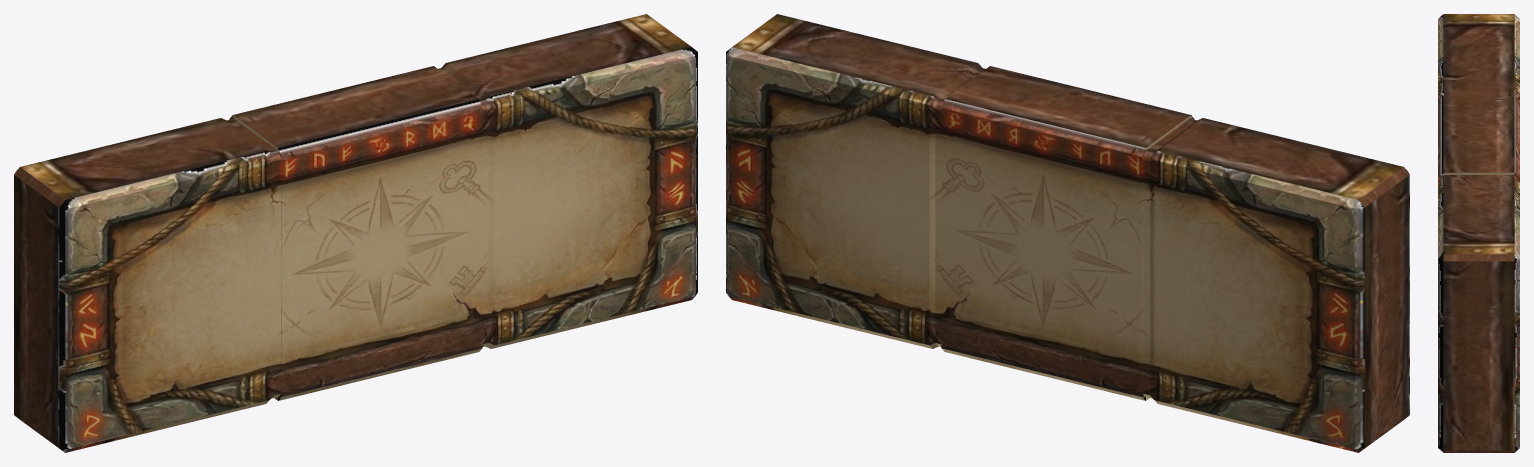
The model's file is word_picker.glb.
3 renders of one model, left to right at view 1: azimuth 30°, elevation 25°; view 2: azimuth 150°, elevation 25°; view 3: azimuth 270°, elevation 25°, orthographic. The views are drawn at different scales.
Parts seen in each view (by area): view 1: Cube; view 2: Cube; view 3: Cube.
Part boxes in pixels (x1,y1,x2,y2): Cube: [14, 14, 697, 452]; Cube: [726, 14, 1409, 452]; Cube: [1438, 14, 1519, 452].
Bounding box in the file's own units: 2 × 0.7569 × 0.2828.
1 material, 1 textured.
